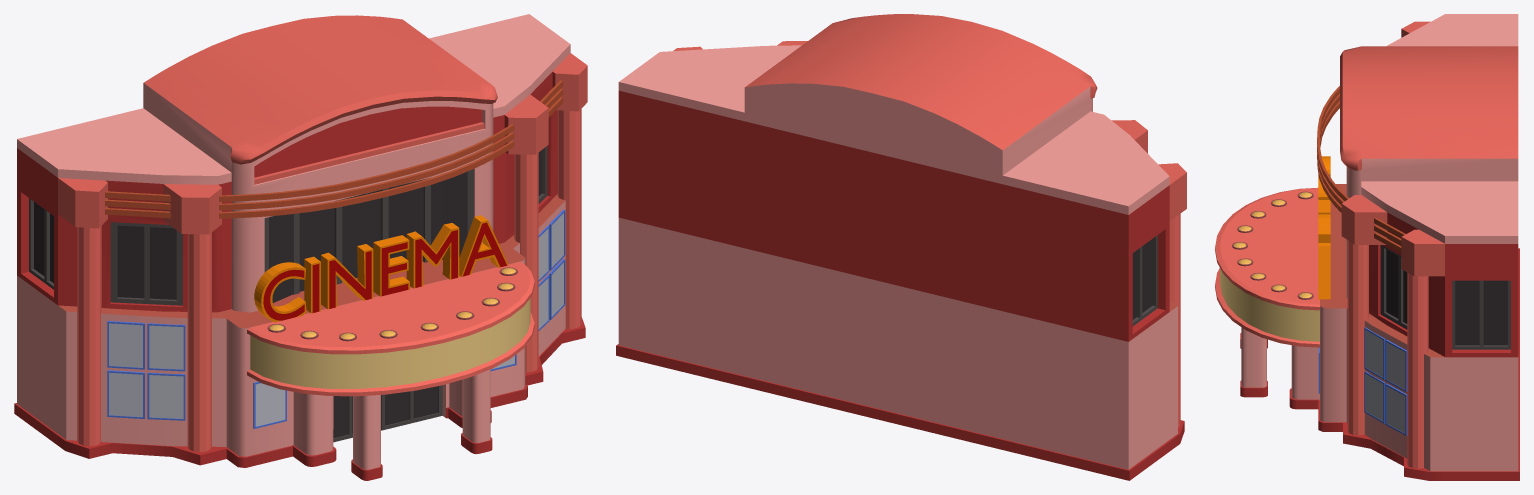
File: Cinema.glb
The picture shows the model from 3 angles, left to right: view 1: azimuth 30°, elevation 25°; view 2: azimuth 150°, elevation 25°; view 3: azimuth 270°, elevation 25°; orthographic projection. The views are drawn at different scales.
Parts seen in each view (by area): view 1: Cinema; view 2: Cinema; view 3: Cinema.
Part boxes in pixels (left/top/right/bottom): Cinema: left=14, top=14, right=587, bottom=480; Cinema: left=616, top=14, right=1186, bottom=480; Cinema: left=1215, top=14, right=1519, bottom=480.
Size of the model in its own units: 0.0923 by 0.0557 by 0.0532.
Materials: 1 (1 with a texture image).
